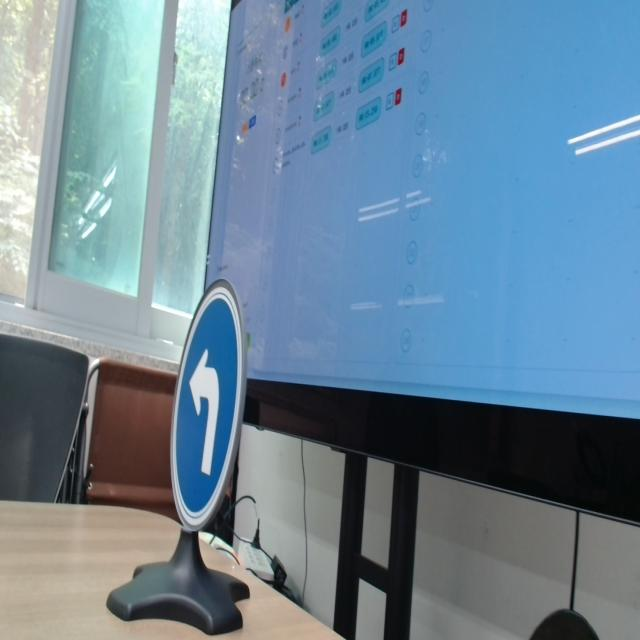left_direction: (167, 277, 250, 539)
